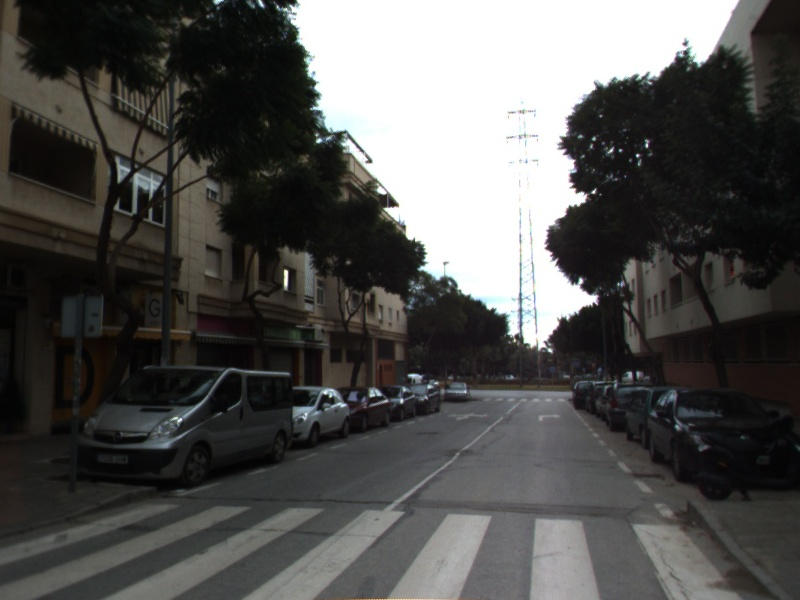RIGHT: (536, 412, 563, 423)
